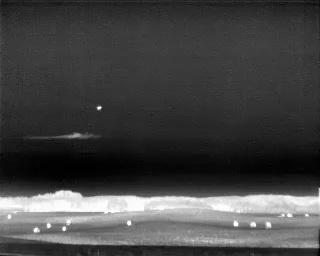BIRD: (95, 103, 104, 113)
